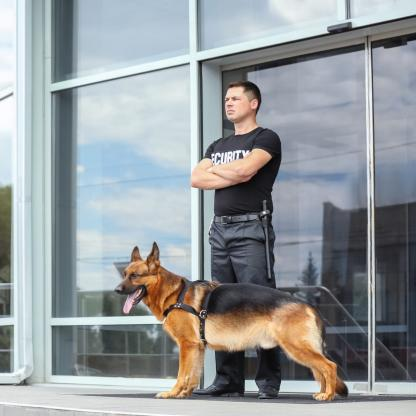dog: (114, 243, 346, 399)
